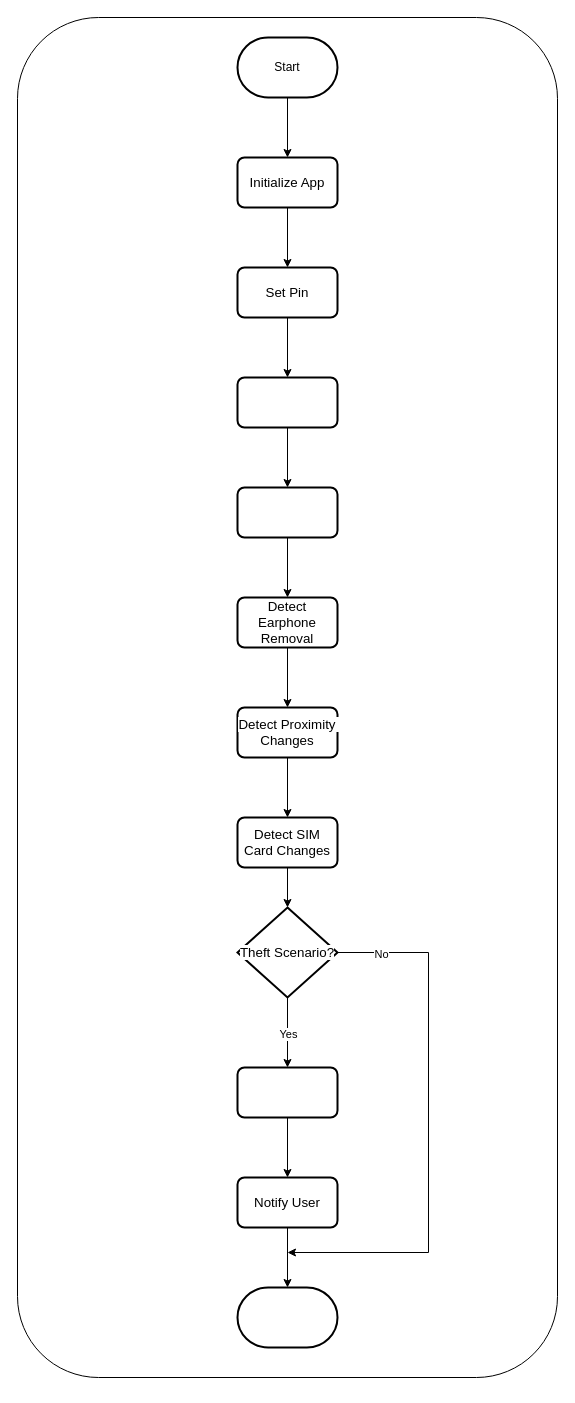
This 575x1403 diagram has some shape labels left out. The shapes that lost their labels are listed below. From the top down, each one's centre as x and y in pixels, then its label:
pixel 287 402: Detect Motion
pixel 287 512: Detect Charger Disconnection
pixel 287 1092: Trigger Alarm
pixel 287 1317: End
